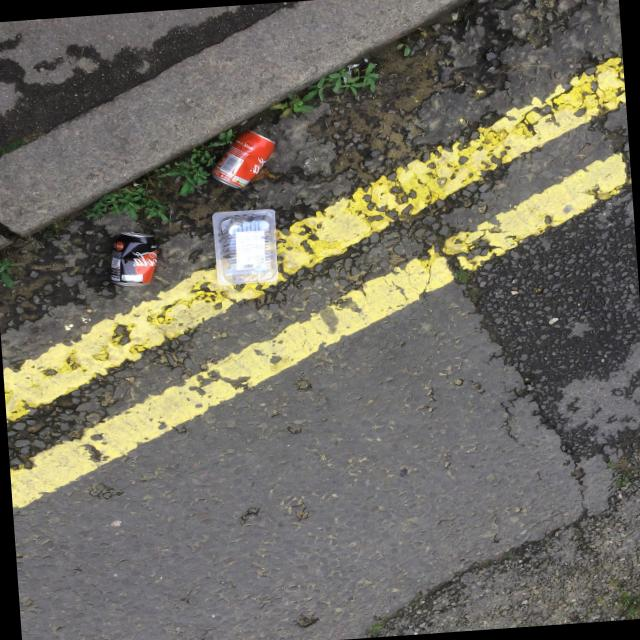less trash: (213, 209, 277, 284), (211, 131, 274, 188), (110, 232, 157, 286)
